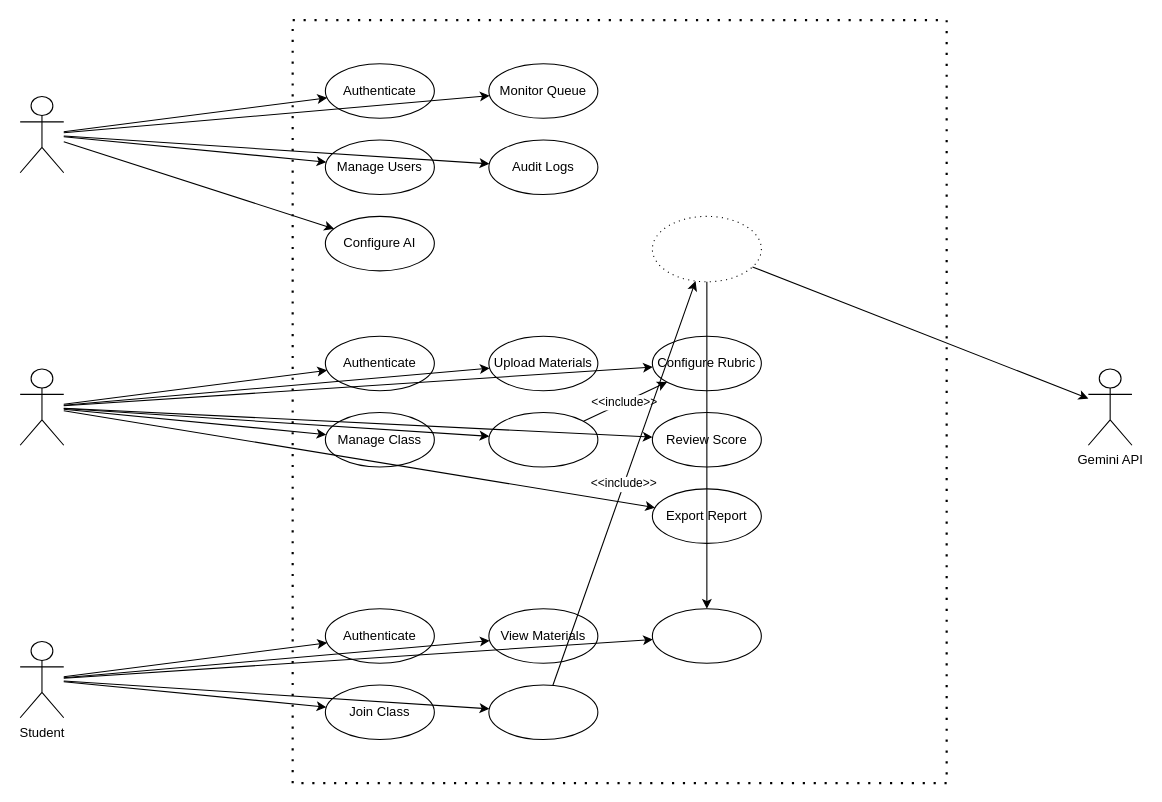
Some shapes in this 1162 by 802 pixel diagram are drawn without their labels. The box of each missing label's shape, as (x1, y1, x2, y2) in pixels:
Admin: (19, 95, 64, 173)
Automated Essay Scoring System: (291, 19, 947, 784)
Create Question: (488, 411, 598, 467)
Grade Essay (RAG + AI): (651, 215, 761, 282)
Submit Essay: (488, 684, 598, 740)
Teacher: (19, 368, 64, 445)
View Score: (651, 608, 761, 663)
